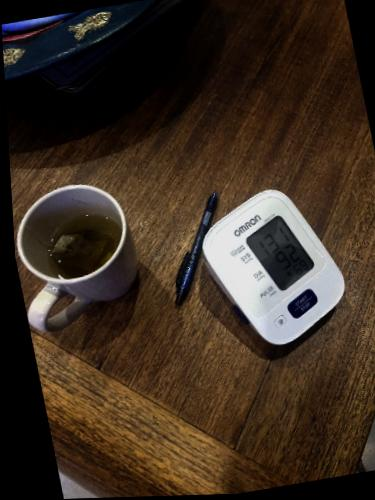bpm: (241, 213, 317, 293)
